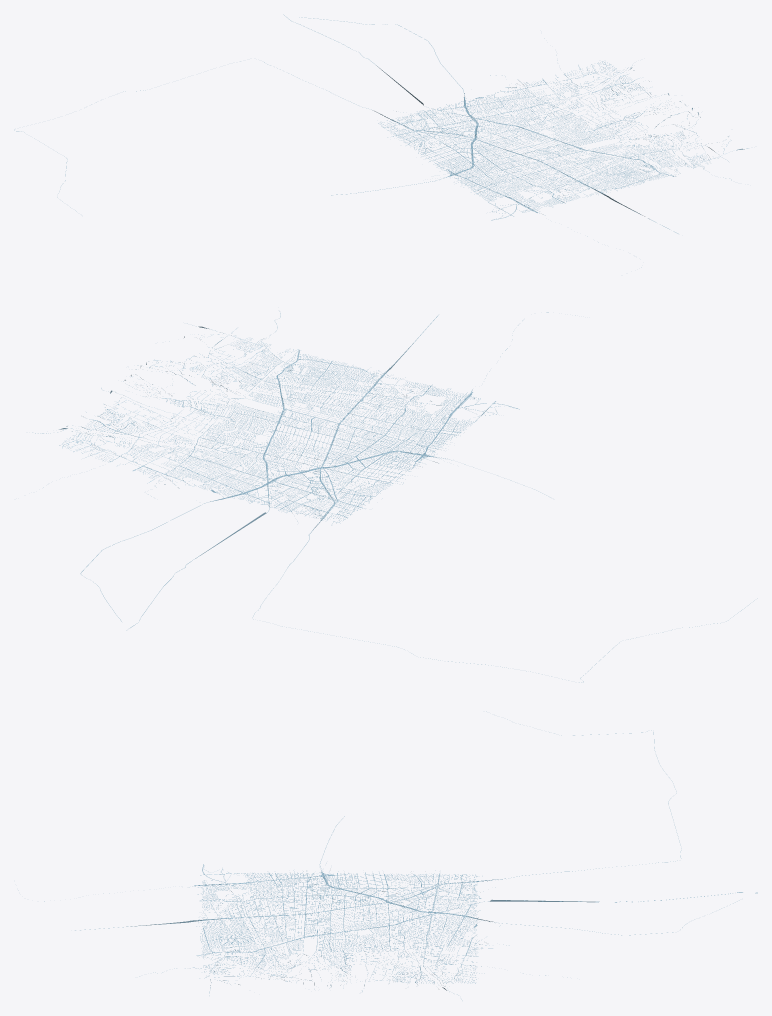
Rendered from roads.glb.
The picture shows the model from 3 angles, top to bottom: view 1: azimuth 30°, elevation 25°; view 2: azimuth 150°, elevation 25°; view 3: azimuth 270°, elevation 25°; orthographic projection. The views are drawn at different scales.
Parts seen in each view (by area): view 1: roads; view 2: roads; view 3: roads.
Boxes of the visible parts, bbox=[...] form: roads: bbox=[14, 14, 748, 267]; roads: bbox=[32, 311, 757, 682]; roads: bbox=[18, 711, 757, 1000].
Size of the model in its own units: 22873 by 545 by 24268.
